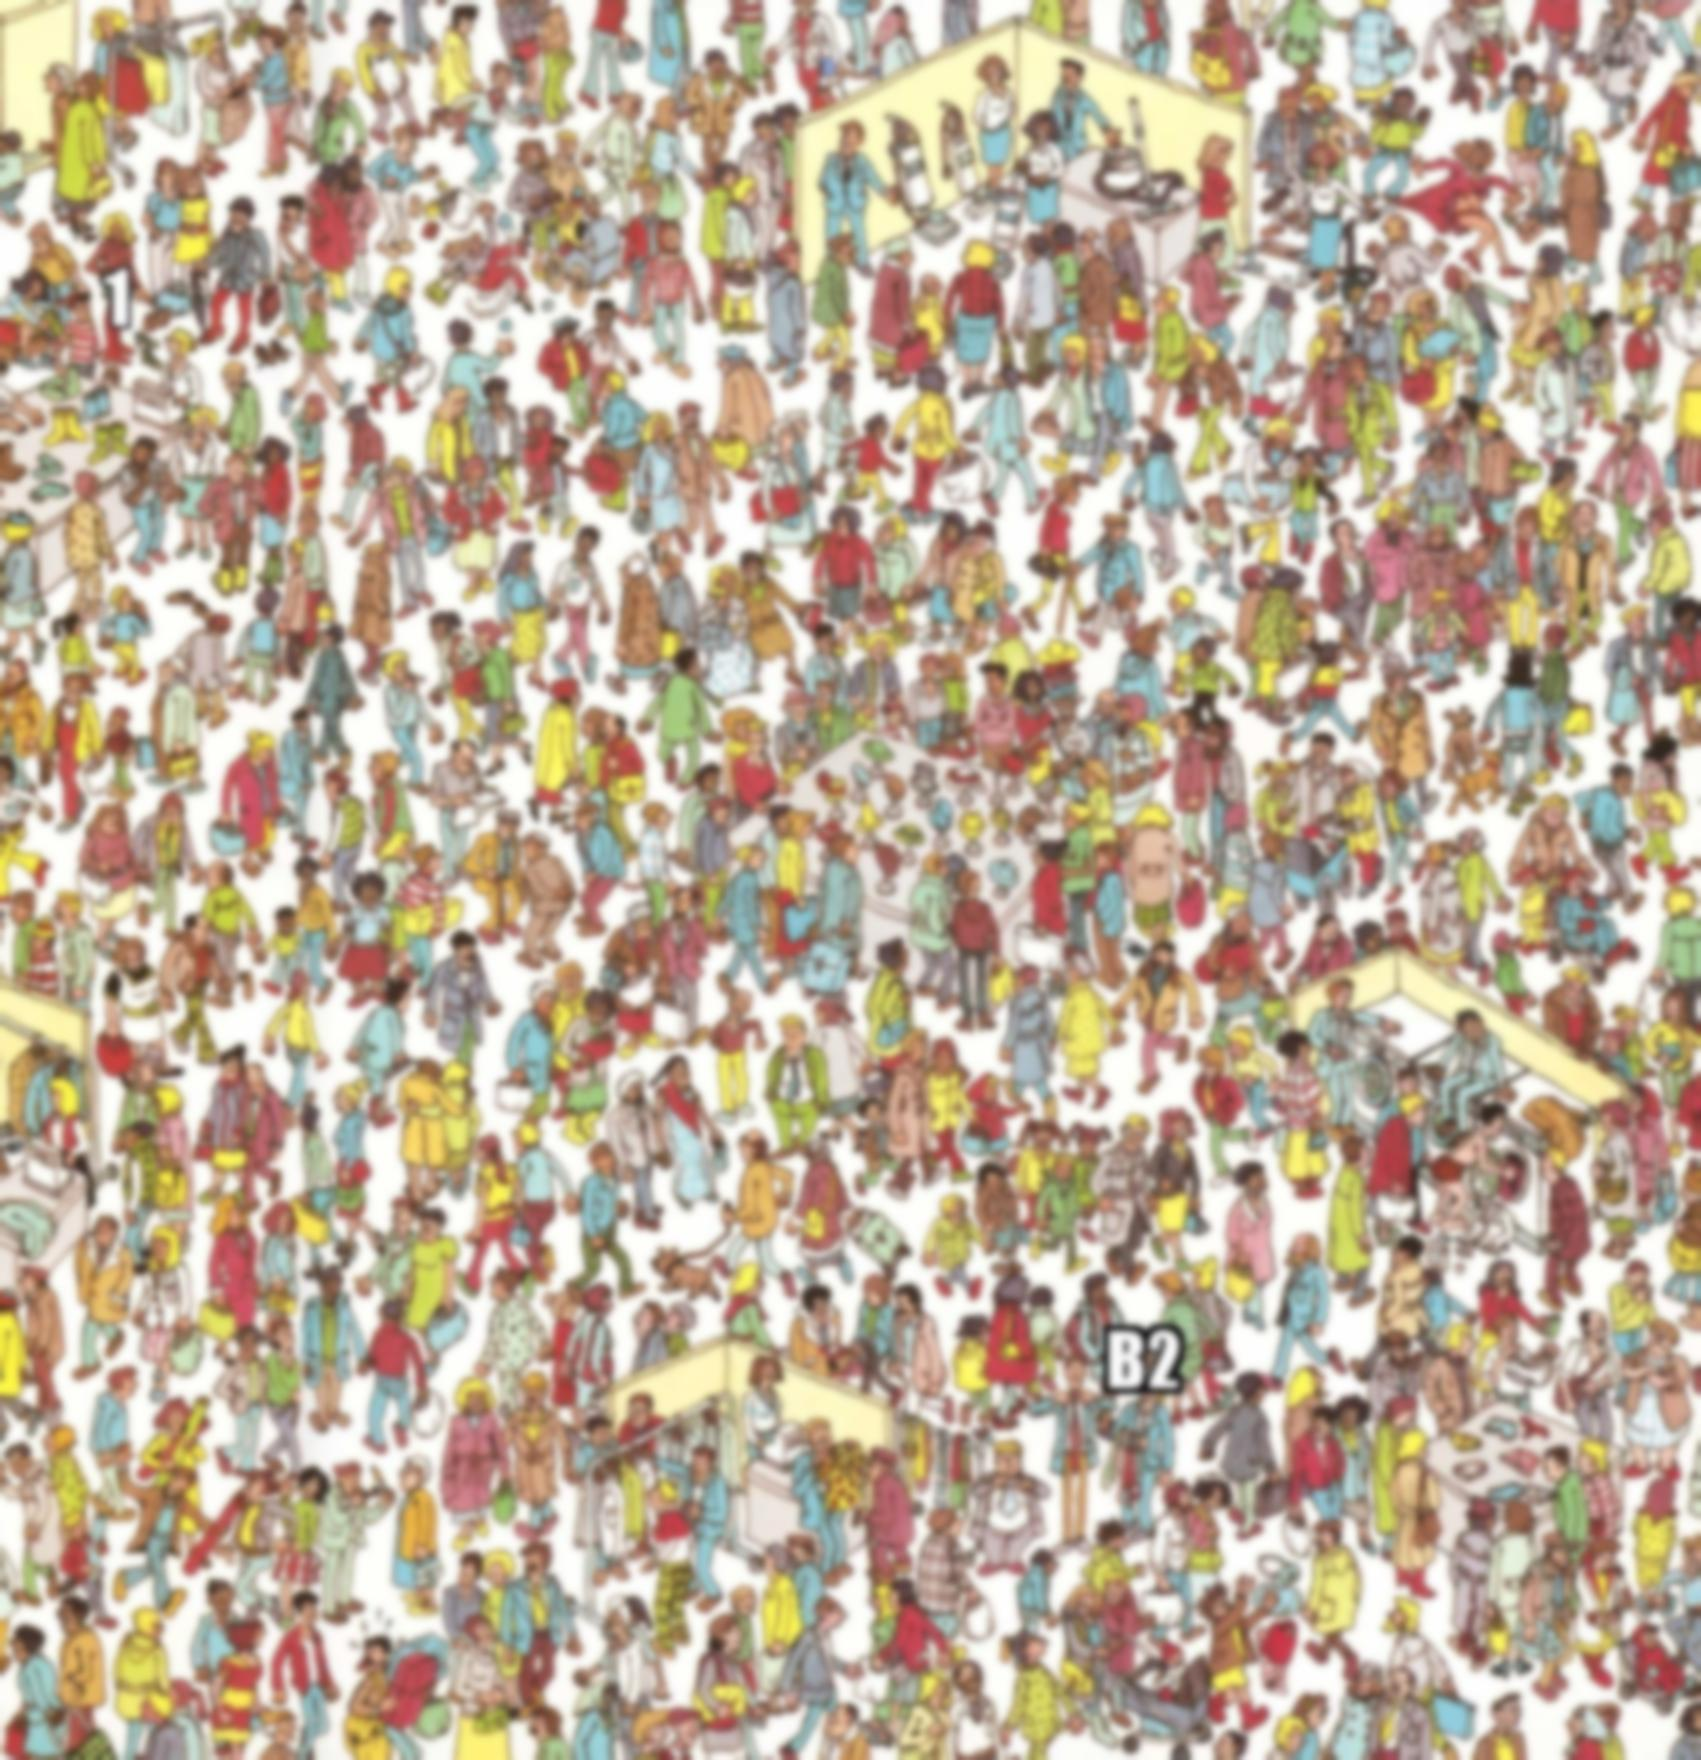waldos: (52, 286, 123, 382)
